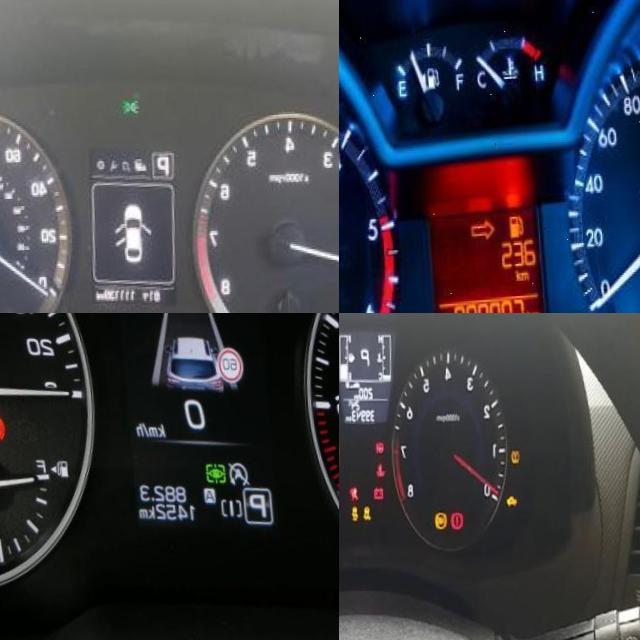Electronic Power Steering: (373, 446, 382, 458)
High Engine Coolant Temperature: (372, 467, 382, 483)
